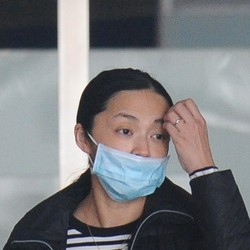mask: (79, 128, 172, 204)
